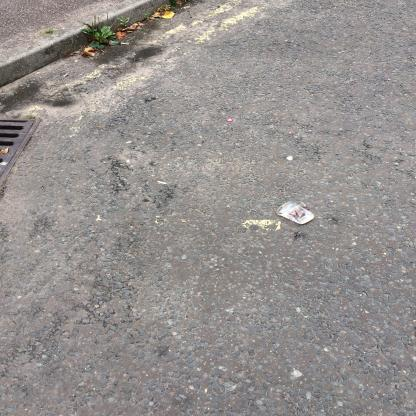trash: (273, 200, 317, 226)
